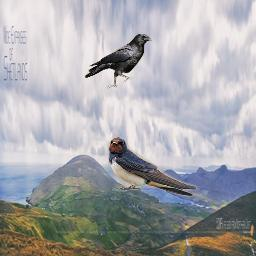Crow: (85, 33, 154, 89)
Swallow: (107, 135, 224, 205)
